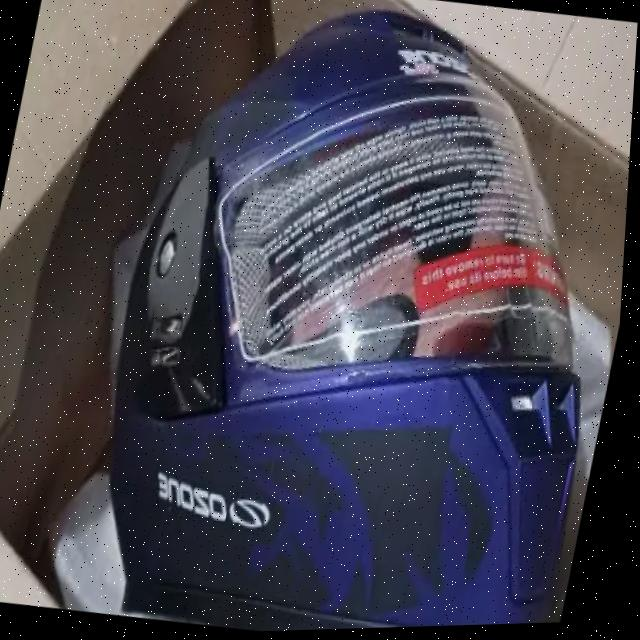Helmet: (22, 0, 640, 639)
